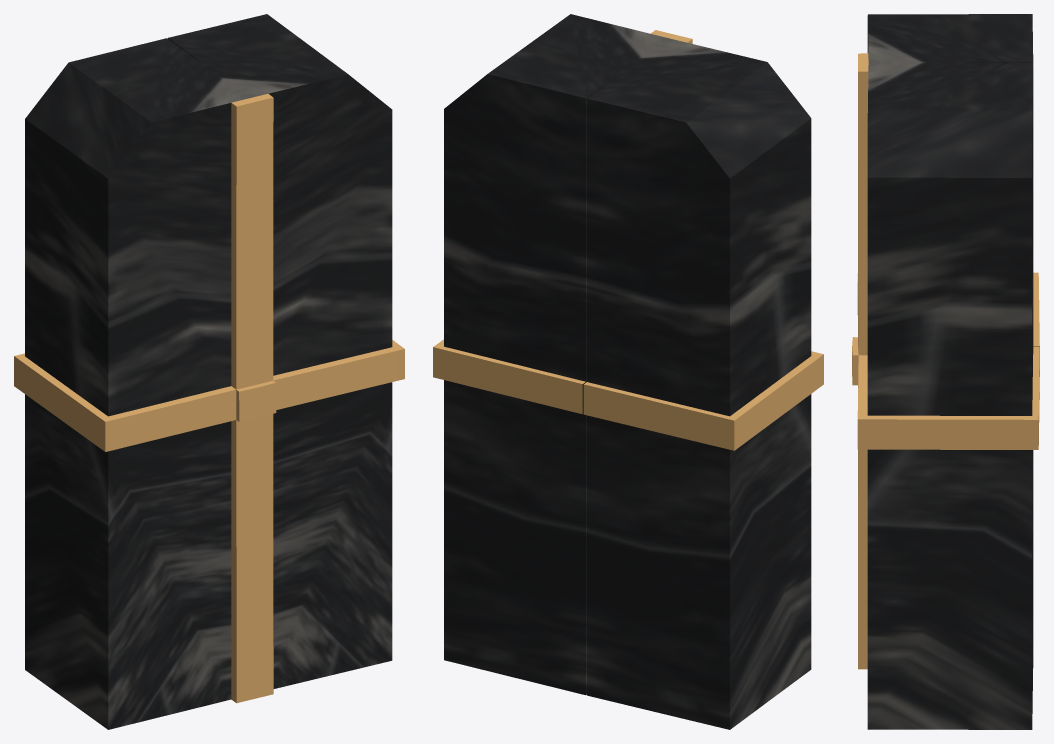
File: door.fbx
The picture shows the model from 3 angles, left to right: view 1: azimuth 30°, elevation 25°; view 2: azimuth 150°, elevation 25°; view 3: azimuth 270°, elevation 25°; orthographic projection.
Parts seen in each view (by area): view 1: Plane; view 2: Plane; view 3: Plane.
Part boxes in pixels (bbox=[...]): Plane: bbox=[14, 14, 404, 729]; Plane: bbox=[433, 14, 823, 729]; Plane: bbox=[852, 14, 1039, 729].
Bounding box in the file's own units: 2.12 × 4 × 1.14.
2 materials, 2 textured.
